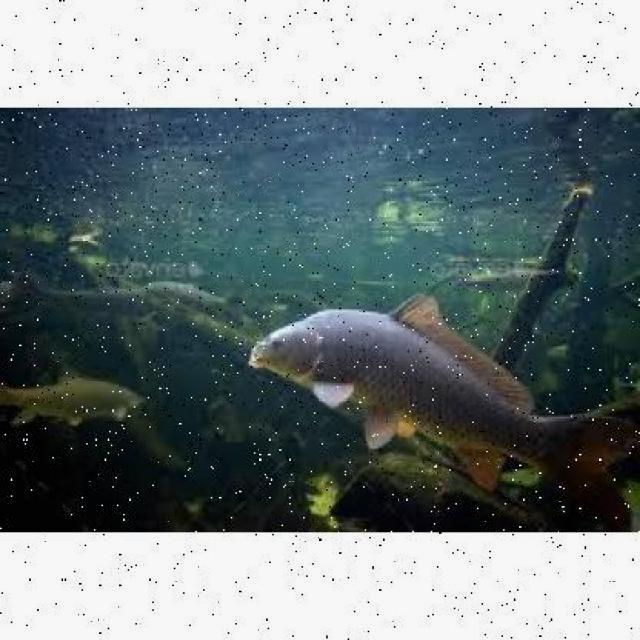ikan-mas: (249, 286, 640, 525)
